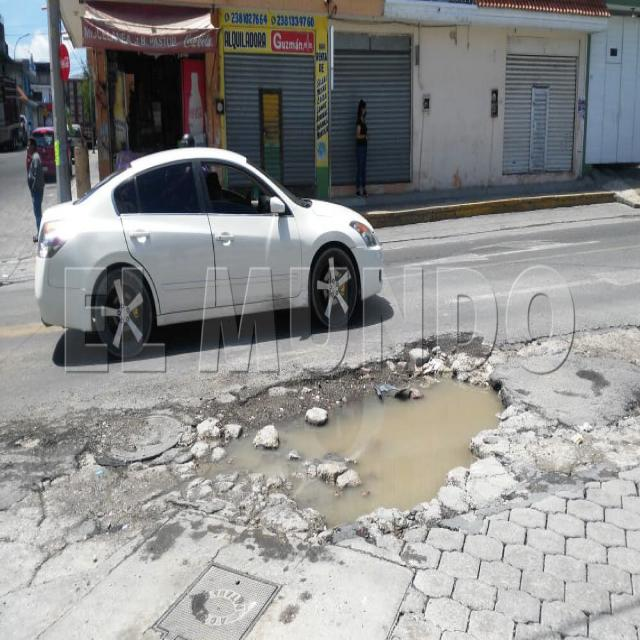Pothole: (1, 305, 536, 561)
